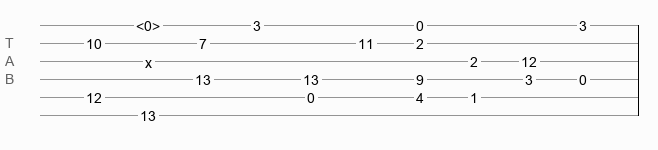0: (307, 90, 315, 100), (416, 18, 424, 28), (579, 72, 587, 82)
1: (470, 90, 478, 100)
10: (86, 36, 102, 46)
11: (358, 36, 374, 46)
12: (86, 90, 102, 100), (521, 54, 537, 64)
13: (140, 108, 156, 118), (195, 72, 211, 82), (303, 72, 319, 82)
2: (416, 36, 424, 46), (470, 54, 478, 64)
3: (253, 18, 261, 28), (525, 72, 533, 82), (579, 18, 587, 28)
4: (416, 90, 424, 100)
7: (199, 36, 207, 46)
9: (416, 72, 424, 82)
harmonic: (136, 18, 160, 28)
x: (145, 55, 152, 63)
